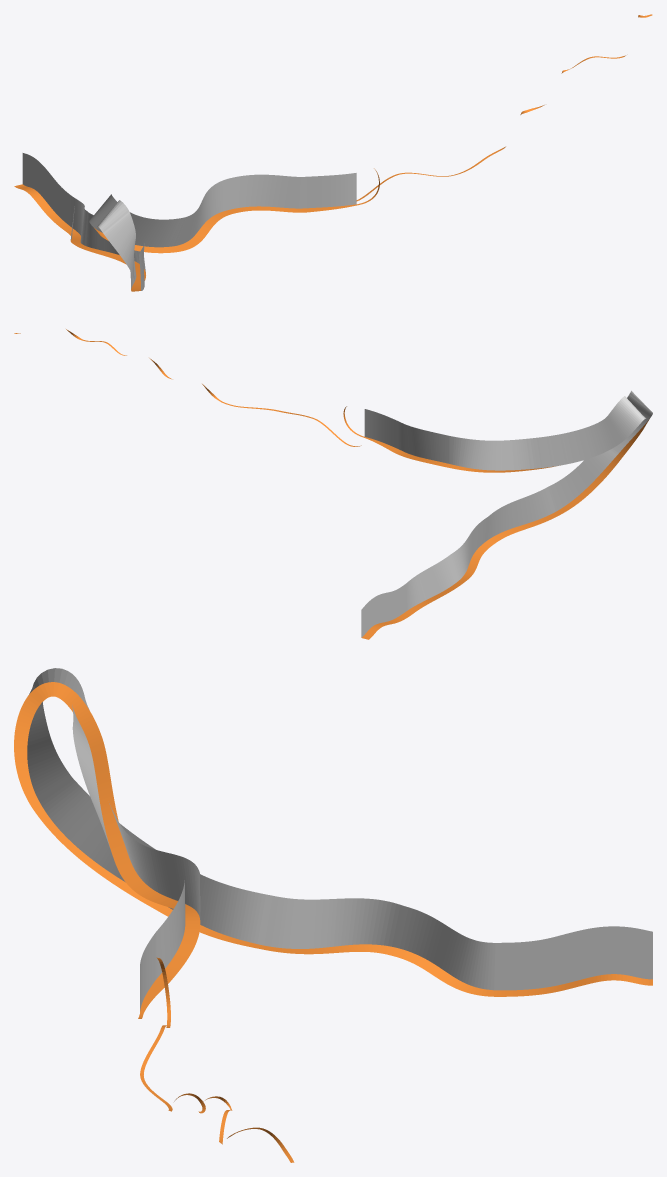
File: SkyRoad05.gltf
3 renders of one model, top to bottom at view 1: azimuth 30°, elevation 25°; view 2: azimuth 150°, elevation 25°; view 3: azimuth 270°, elevation 25°, orthographic. The views are drawn at different scales.
Parts seen in each view (by area): view 1: SkyRoadWall05, SkyRoad05; view 2: SkyRoadWall05, SkyRoad05; view 3: SkyRoadWall05, SkyRoad05.
Boxes of the visible parts, x1=… form: SkyRoadWall05: x1=22, y1=153, x2=356, y2=290; SkyRoad05: x1=14, y1=14, x2=652, y2=291; SkyRoadWall05: x1=361, y1=390, x2=652, y2=637; SkyRoad05: x1=14, y1=329, x2=649, y2=639; SkyRoadWall05: x1=27, y1=668, x2=652, y2=1010; SkyRoad05: x1=14, y1=682, x2=652, y2=1162.
Bounding box in the file's own units: 296 × 73.78 × 170.
